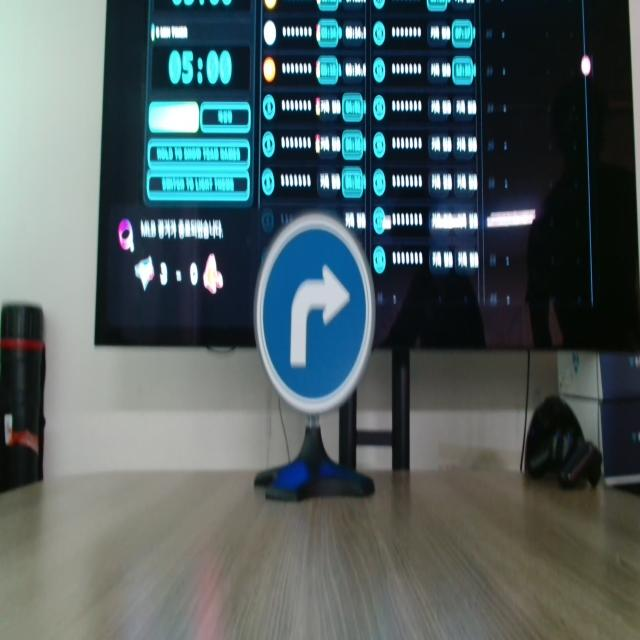right_dierection: (251, 204, 399, 430)
